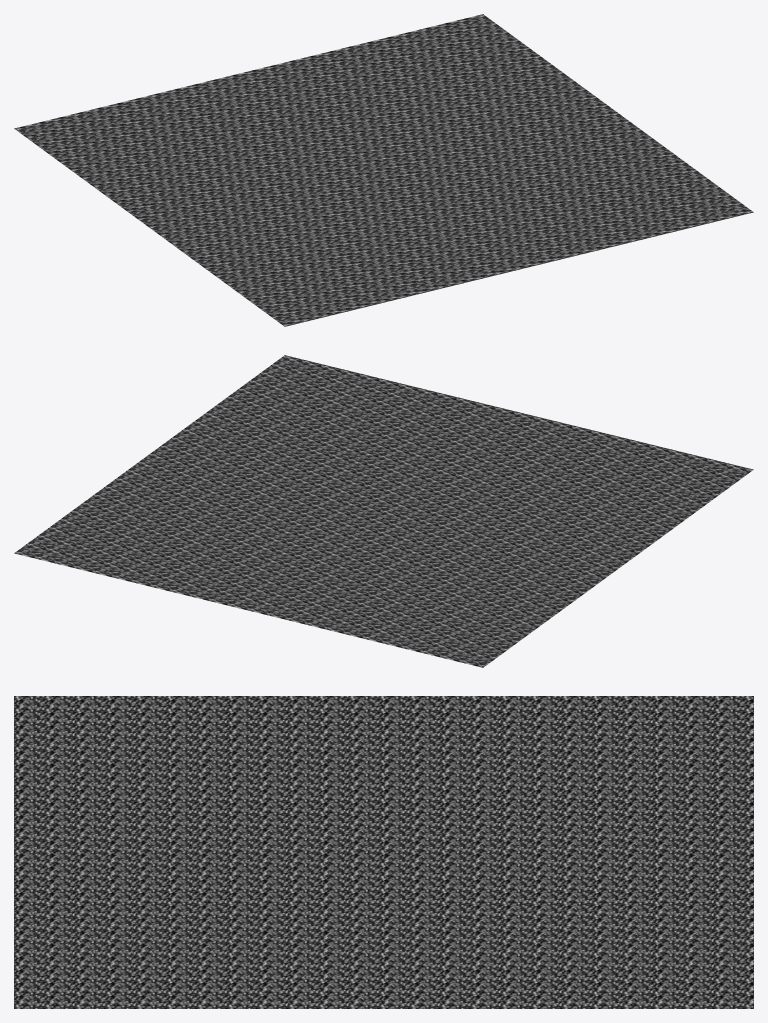
File: CityOnFire.gltf
3 renders of one model, top to bottom at view 1: azimuth 30°, elevation 25°; view 2: azimuth 150°, elevation 25°; view 3: azimuth 270°, elevation 25°, orthographic. The views are drawn at different scales.
Parts seen in each view (by area): view 1: Clouds; view 2: Clouds; view 3: Clouds.
Boxes of the visible parts, bbox=[...] form: Clouds: bbox=[14, 14, 753, 326]; Clouds: bbox=[14, 355, 753, 667]; Clouds: bbox=[14, 696, 753, 1008].
Bounding box in the file's own units: 13002 × 370 × 13002.
30 materials, 26 textured.
